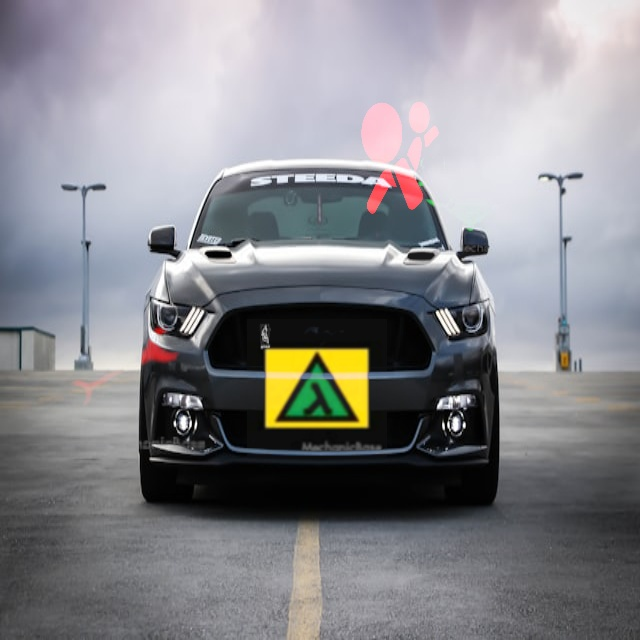symbol: (36, 282, 212, 458), (320, 79, 470, 229), (399, 119, 539, 259), (247, 319, 387, 459)
